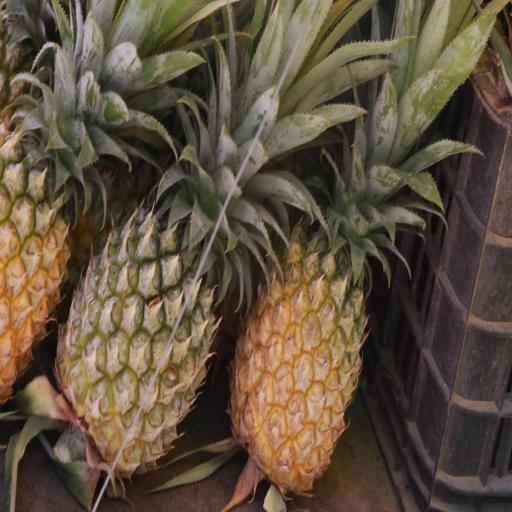Pineapple - v8 v1: (227, 134, 373, 498)
